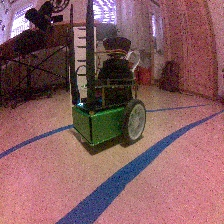rob: (71, 57, 147, 147)
